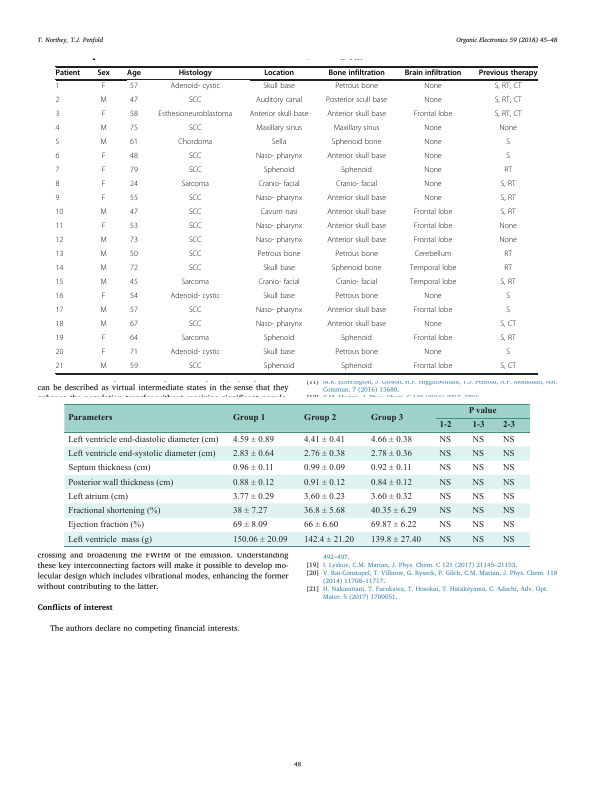borderless: (54, 65, 537, 373), (63, 402, 530, 546)
cell: (66, 435, 219, 445), (66, 449, 216, 459), (66, 478, 174, 488), (66, 506, 161, 516), (66, 463, 151, 474), (66, 535, 152, 545), (66, 520, 144, 531), (157, 110, 233, 120), (325, 96, 388, 106), (66, 492, 128, 502), (326, 110, 387, 120), (326, 152, 387, 162), (326, 194, 387, 204), (326, 208, 387, 218), (326, 222, 387, 232), (326, 236, 387, 246), (326, 306, 387, 316), (326, 320, 387, 330), (249, 110, 309, 120), (232, 535, 288, 545), (478, 69, 538, 78), (327, 69, 386, 78), (404, 69, 462, 78), (169, 82, 221, 92), (169, 292, 221, 302), (169, 348, 221, 358), (370, 520, 417, 531), (331, 138, 382, 148), (331, 264, 382, 274), (303, 535, 354, 545), (370, 535, 421, 545), (255, 96, 303, 106), (255, 124, 303, 134), (255, 152, 303, 162), (255, 194, 303, 204), (255, 222, 303, 232), (255, 236, 303, 246), (409, 264, 457, 274), (409, 278, 457, 288), (255, 306, 303, 316), (255, 320, 303, 330), (333, 124, 380, 134), (370, 506, 417, 516), (232, 463, 274, 474), (303, 463, 345, 474), (370, 463, 412, 474), (67, 414, 113, 424), (334, 82, 379, 92), (334, 250, 379, 260), (334, 292, 379, 302), (334, 348, 379, 358), (257, 180, 301, 190), (257, 250, 301, 260), (257, 278, 301, 288), (335, 180, 378, 190), (335, 278, 378, 288), (232, 435, 274, 445), (303, 435, 345, 445), (370, 435, 412, 445), (232, 449, 274, 459), (303, 449, 345, 459), (370, 449, 412, 459), (232, 478, 274, 488), (303, 478, 345, 488), (370, 478, 412, 488), (232, 492, 274, 502), (303, 492, 345, 502), (370, 492, 412, 502), (303, 506, 345, 516), (413, 110, 453, 120), (259, 208, 299, 218), (413, 208, 453, 218), (413, 222, 453, 232), (413, 236, 453, 246), (413, 306, 453, 316), (413, 334, 453, 344), (413, 362, 453, 372), (232, 520, 268, 531), (303, 520, 339, 531), (414, 250, 452, 260), (177, 138, 213, 148), (232, 506, 268, 516), (369, 414, 404, 424), (262, 82, 296, 92), (262, 264, 296, 274), (262, 292, 296, 302), (262, 348, 296, 358), (232, 414, 266, 424), (303, 414, 337, 424), (340, 166, 373, 176), (340, 334, 373, 344), (340, 362, 373, 372), (263, 166, 295, 176), (263, 334, 295, 344), (263, 362, 295, 372), (178, 69, 213, 78), (180, 180, 210, 190), (180, 278, 210, 288), (180, 334, 210, 344), (467, 407, 497, 417), (494, 82, 523, 92), (494, 96, 523, 106), (494, 110, 523, 120), (263, 69, 295, 78), (55, 69, 81, 78), (423, 82, 443, 92), (423, 96, 443, 106), (423, 124, 443, 134), (498, 124, 518, 134), (423, 138, 443, 148), (423, 152, 443, 162), (423, 166, 443, 176), (423, 180, 443, 190), (423, 194, 443, 204), (498, 222, 518, 232), (498, 236, 518, 246), (423, 292, 443, 302), (423, 320, 443, 330), (423, 348, 443, 358), (499, 320, 517, 330), (499, 362, 517, 372), (500, 180, 517, 190), (500, 194, 517, 204), (500, 208, 517, 218), (500, 278, 517, 288), (500, 334, 517, 344), (271, 138, 287, 148), (438, 463, 452, 474), (471, 463, 485, 474), (438, 520, 452, 531), (471, 520, 485, 531), (126, 69, 142, 78), (502, 463, 515, 474), (502, 520, 515, 531), (188, 96, 202, 106), (188, 124, 202, 134), (188, 152, 202, 162), (188, 166, 202, 176), (188, 194, 202, 204), (188, 208, 202, 218), (188, 222, 202, 232), (188, 236, 202, 246), (188, 250, 202, 260), (188, 264, 202, 274), (188, 306, 202, 316), (188, 320, 202, 330), (188, 362, 202, 372), (438, 421, 452, 431), (471, 421, 485, 431), (501, 421, 515, 431), (438, 435, 452, 445), (471, 435, 485, 445), (438, 449, 452, 459), (471, 449, 485, 459), (438, 478, 452, 488), (471, 478, 485, 488), (438, 492, 452, 502), (471, 492, 485, 502), (438, 506, 452, 516), (471, 506, 485, 516), (438, 535, 452, 545), (471, 535, 485, 545), (96, 69, 111, 78), (502, 435, 515, 445), (502, 449, 515, 459), (502, 478, 515, 488), (502, 492, 515, 502), (502, 506, 515, 516), (502, 535, 515, 545), (129, 82, 139, 92), (129, 96, 139, 106), (129, 110, 139, 120), (129, 124, 139, 134), (129, 138, 139, 148), (129, 152, 139, 162), (129, 166, 139, 176), (503, 166, 513, 176), (129, 180, 139, 190), (129, 194, 139, 204), (129, 208, 139, 218), (129, 222, 139, 232), (129, 236, 139, 246), (129, 250, 139, 260), (503, 250, 513, 260), (129, 264, 139, 274), (503, 264, 513, 274), (129, 278, 139, 288), (129, 292, 139, 302), (129, 306, 139, 316), (129, 320, 139, 330), (129, 334, 139, 344), (129, 348, 139, 358), (129, 362, 139, 372), (99, 96, 108, 106), (99, 124, 108, 134), (99, 138, 108, 148), (55, 208, 64, 218), (99, 208, 108, 218), (55, 222, 64, 232), (55, 236, 64, 246), (99, 236, 108, 246), (55, 250, 64, 260), (99, 250, 108, 260), (55, 264, 64, 274), (99, 264, 108, 274), (55, 278, 64, 288), (99, 278, 108, 288), (55, 292, 64, 302), (55, 306, 64, 316), (99, 306, 108, 316), (55, 320, 64, 330), (99, 320, 108, 330), (55, 334, 64, 344), (55, 348, 64, 358), (55, 362, 64, 372), (99, 362, 108, 372), (505, 138, 511, 148), (505, 152, 511, 162), (505, 292, 511, 302), (505, 306, 511, 316), (505, 348, 511, 358), (55, 82, 60, 92), (101, 82, 106, 92), (55, 96, 60, 106), (55, 110, 60, 120), (101, 110, 106, 120), (55, 124, 60, 134), (55, 138, 60, 148), (55, 152, 60, 162), (101, 152, 106, 162), (55, 166, 60, 176), (101, 166, 106, 176), (55, 180, 60, 190), (101, 180, 106, 190), (55, 194, 60, 204), (101, 194, 106, 204), (101, 222, 106, 232), (101, 292, 106, 302), (101, 334, 106, 344), (101, 348, 106, 358)
